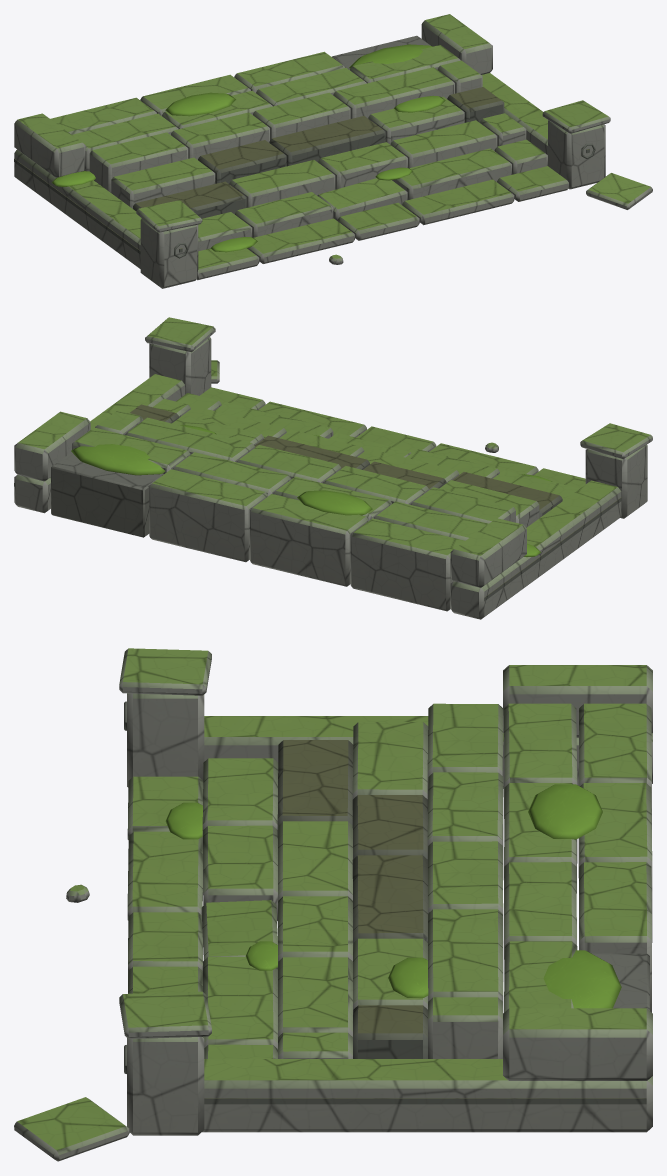
Rendered from stone_steps_wide.glb.
The picture shows the model from 3 angles, top to bottom: view 1: azimuth 30°, elevation 25°; view 2: azimuth 150°, elevation 25°; view 3: azimuth 270°, elevation 25°; orthographic projection. The views are drawn at different scales.
Visible parts, largest first — view 1: stone_steps_wide; view 2: stone_steps_wide; view 3: stone_steps_wide.
Part boxes in pixels (<box>): stone_steps_wide: <box>14,14,652,288</box>; stone_steps_wide: <box>14,317,652,619</box>; stone_steps_wide: <box>14,648,652,1161</box>.
Size of the model in its own units: 7.58 by 1.02 by 5.11.
Materials: 4 (4 with a texture image).
